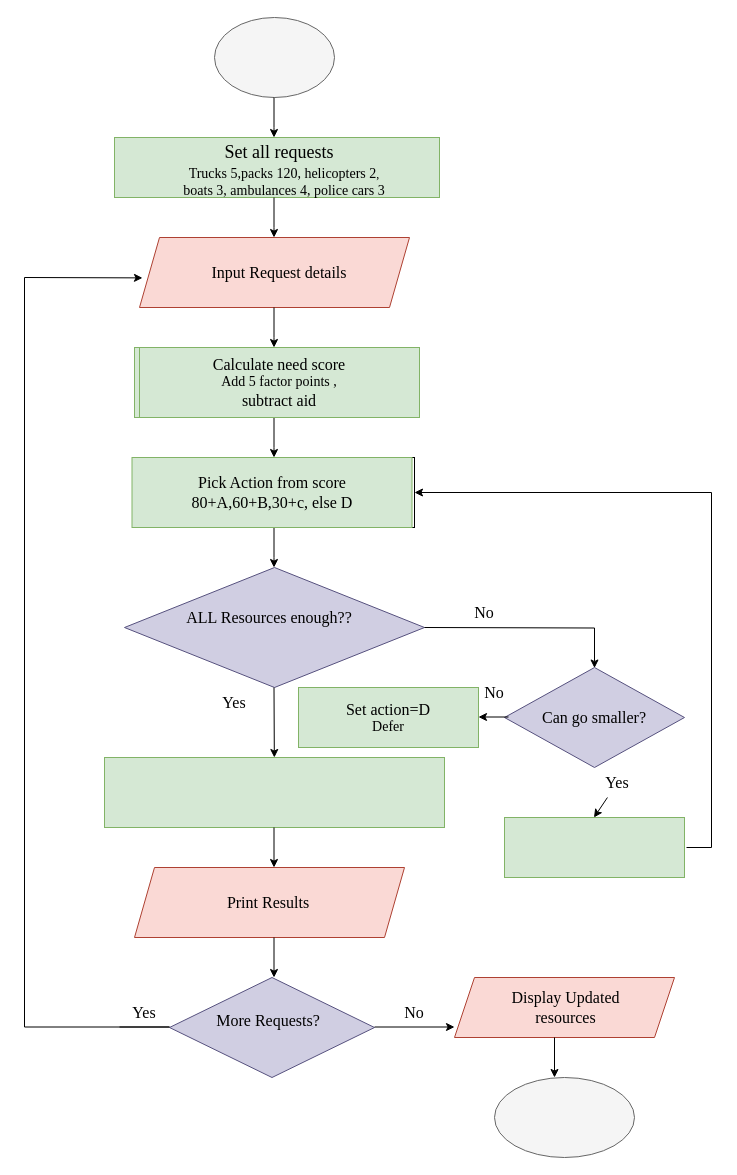
The diagram is 737 pixels wide and 1175 high, and some of its shapes have lost their labels. Each missing label, with the centre of its shape:
END: [564,1117]
START: [274,57]
Try smaller Action: [594,847]
Update all resources: [274,792]
